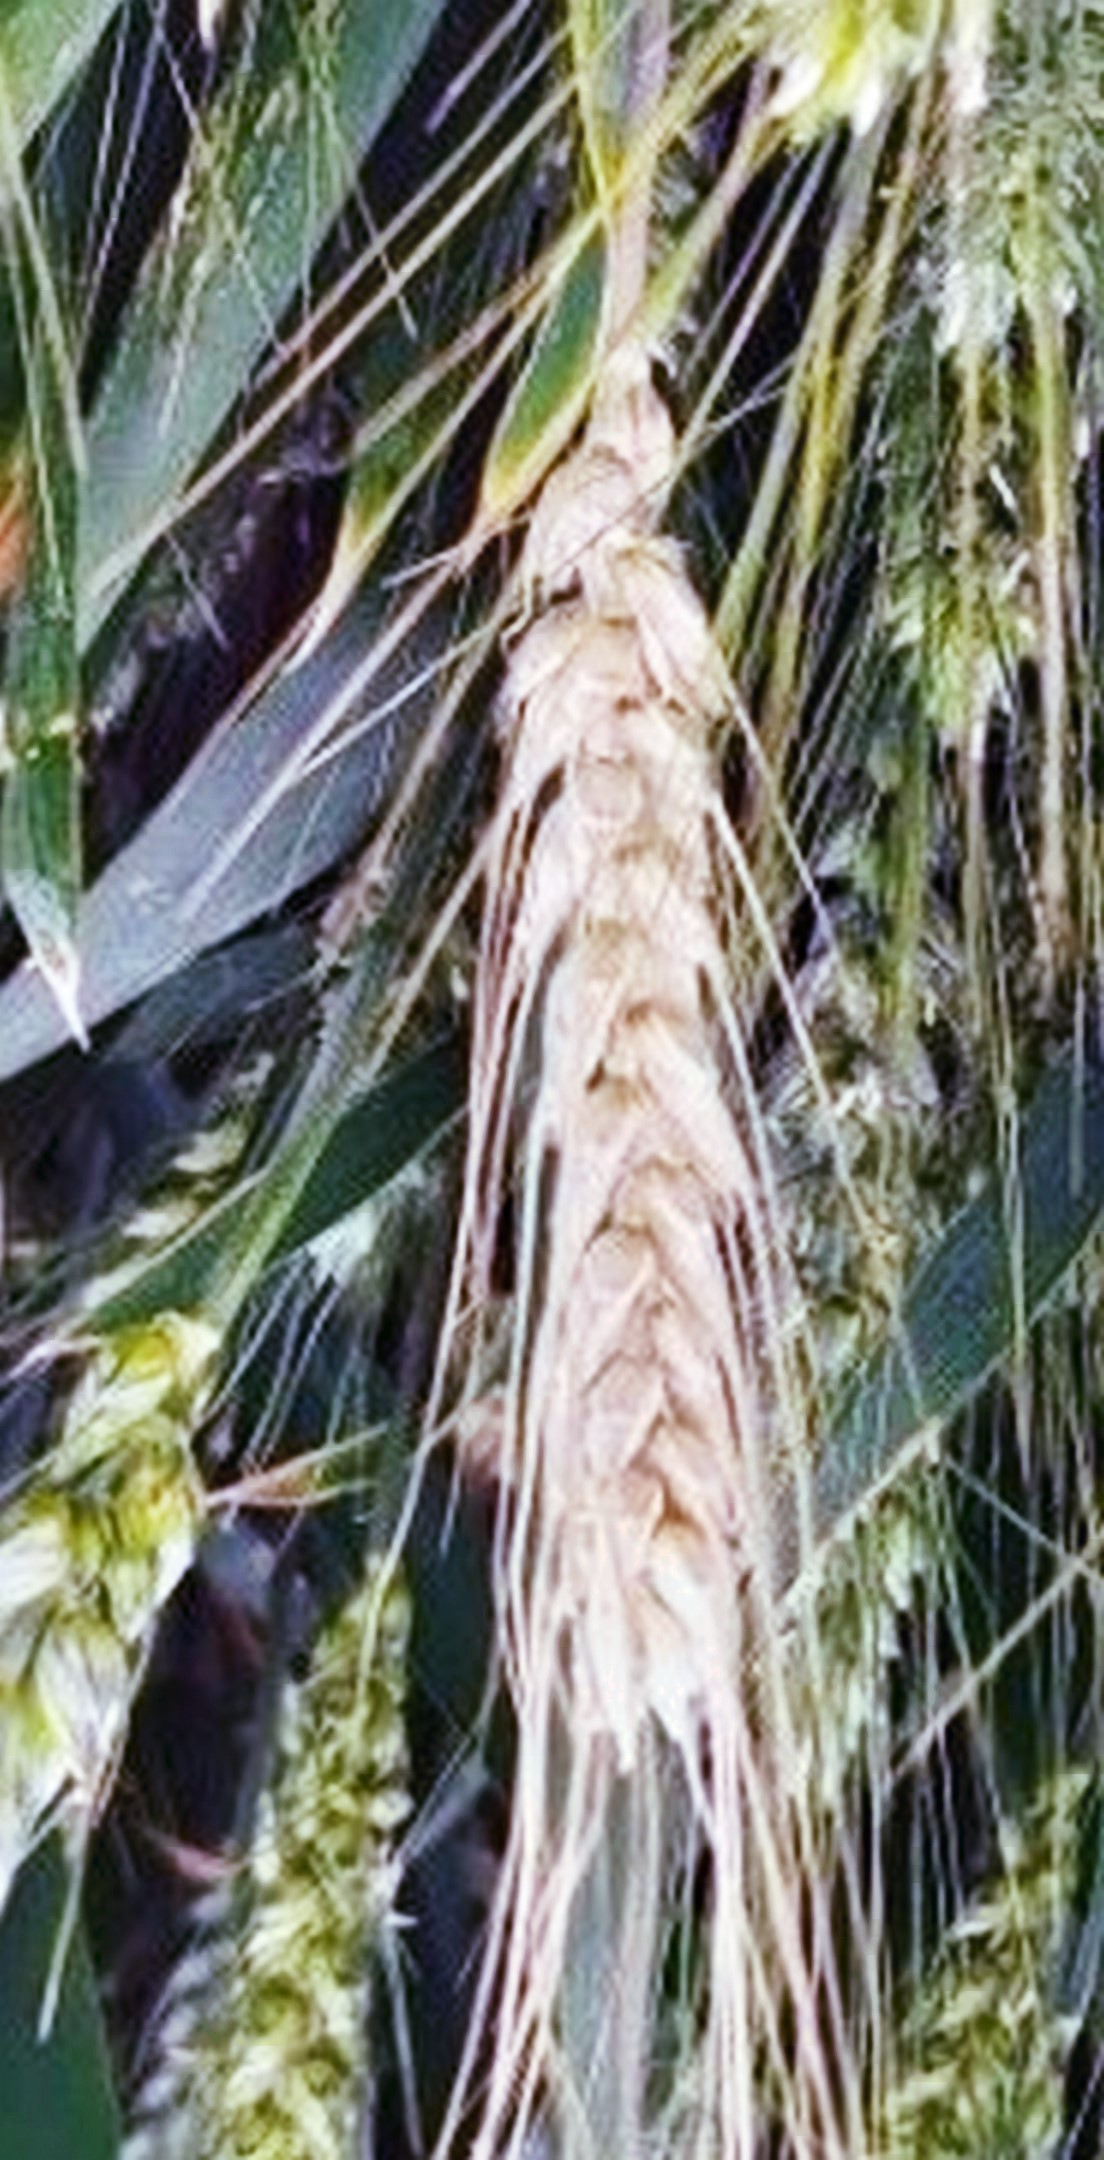Wheat scab: (453, 394, 803, 1729)
